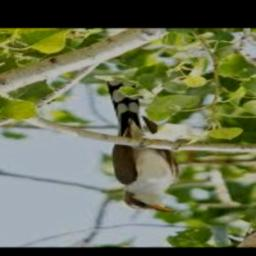Cuckoo: (106, 79, 180, 212)
